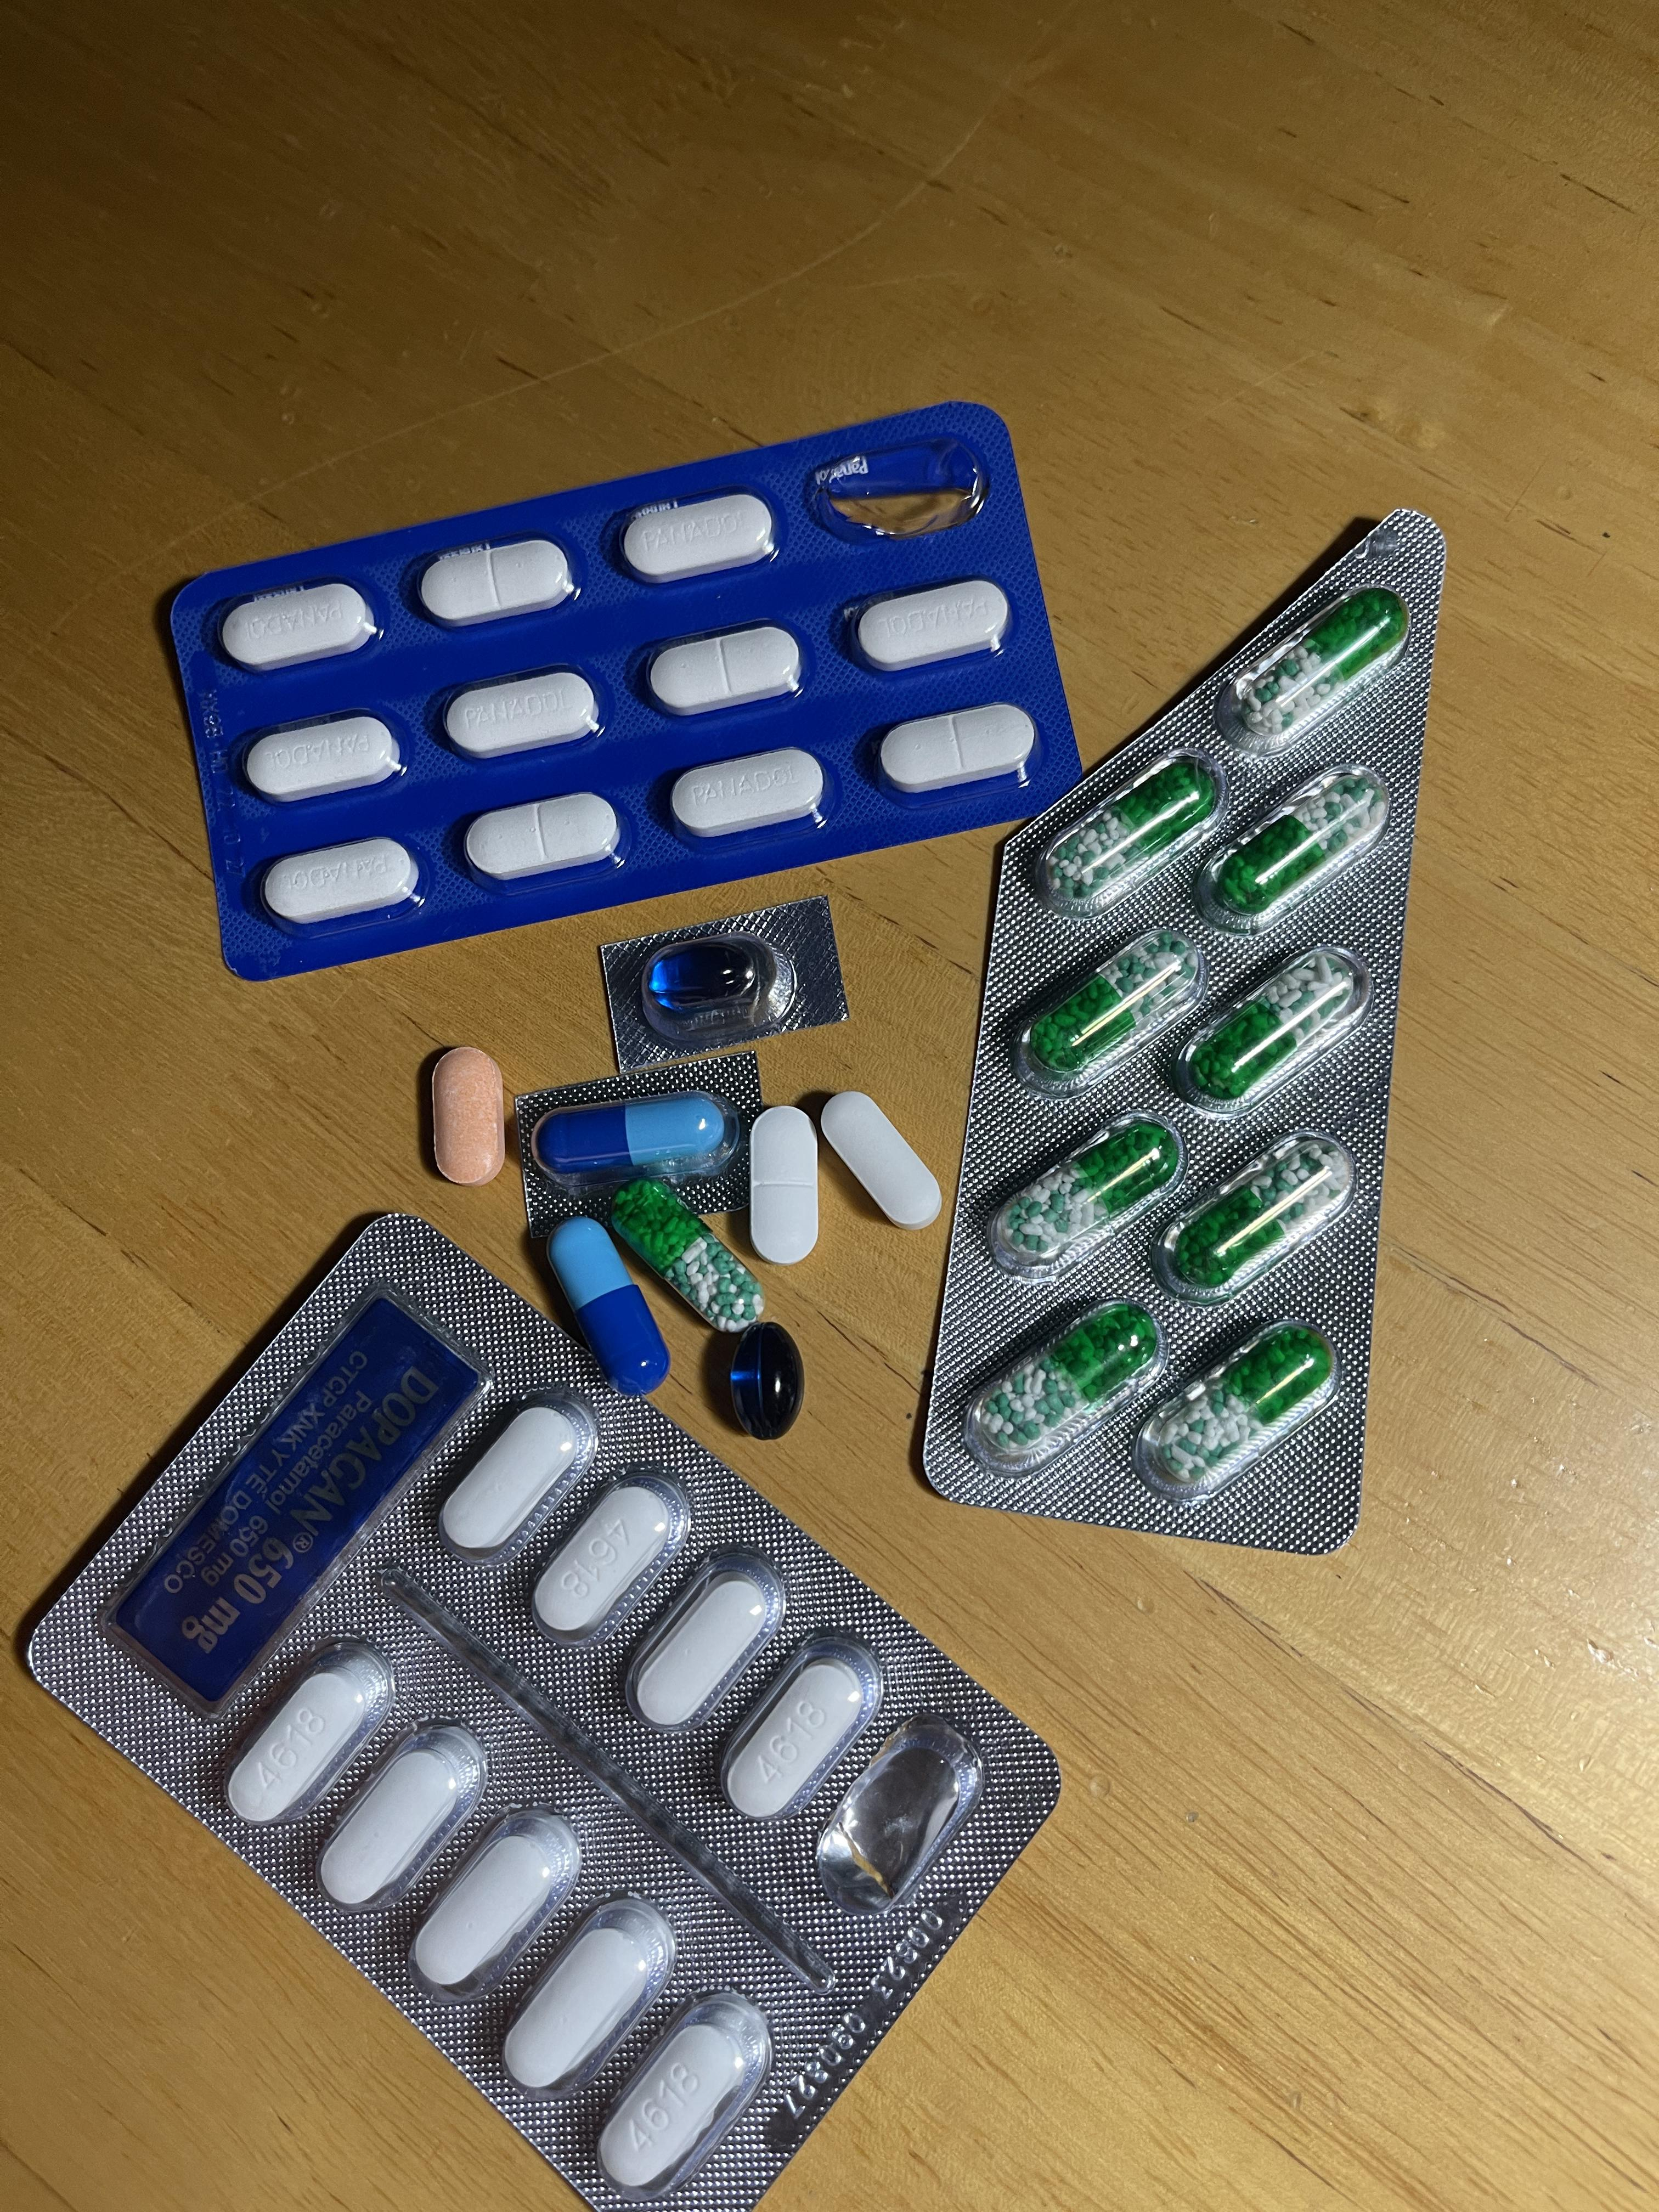Lincomyxin_500mg: (728, 1318, 805, 1435), (647, 941, 762, 1010)
Loratadine_10mg: (430, 1049, 507, 1183)
Paracetamol_350mg: (845, 577, 1014, 674), (875, 702, 1044, 796), (643, 625, 805, 718), (619, 493, 779, 585), (260, 836, 418, 927), (671, 749, 830, 840), (443, 669, 601, 759), (221, 580, 376, 672), (418, 538, 573, 629), (244, 714, 401, 803), (465, 794, 620, 883), (748, 1106, 819, 1263)
Paracetamol_500mg: (495, 1890, 681, 2099), (406, 1804, 586, 2008), (314, 1716, 490, 1909), (603, 2022, 742, 2189), (535, 1486, 678, 1639), (636, 1571, 775, 1728), (727, 1660, 863, 1820), (232, 1665, 371, 1820), (443, 1407, 584, 1550), (819, 1092, 945, 1235)
Paracetamol_650mg: (1134, 1320, 1337, 1503), (1152, 1127, 1359, 1301), (1168, 942, 1370, 1115), (1216, 582, 1410, 754), (1197, 766, 1396, 934), (971, 1296, 1155, 1470), (1035, 744, 1216, 913), (1018, 927, 1197, 1092), (990, 1113, 1175, 1271), (608, 1177, 767, 1336)
pill: (549, 1219, 667, 1388), (533, 1096, 744, 1188)
